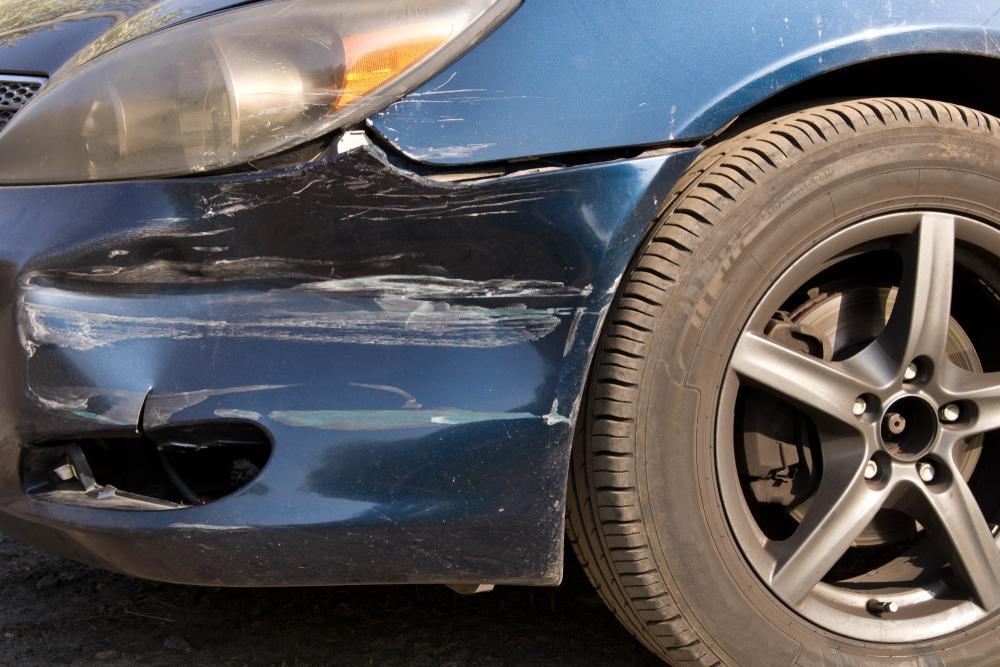crack: (135, 385, 155, 433)
dent: (22, 158, 626, 433)
scratch: (366, 73, 505, 159), (166, 522, 256, 529)
